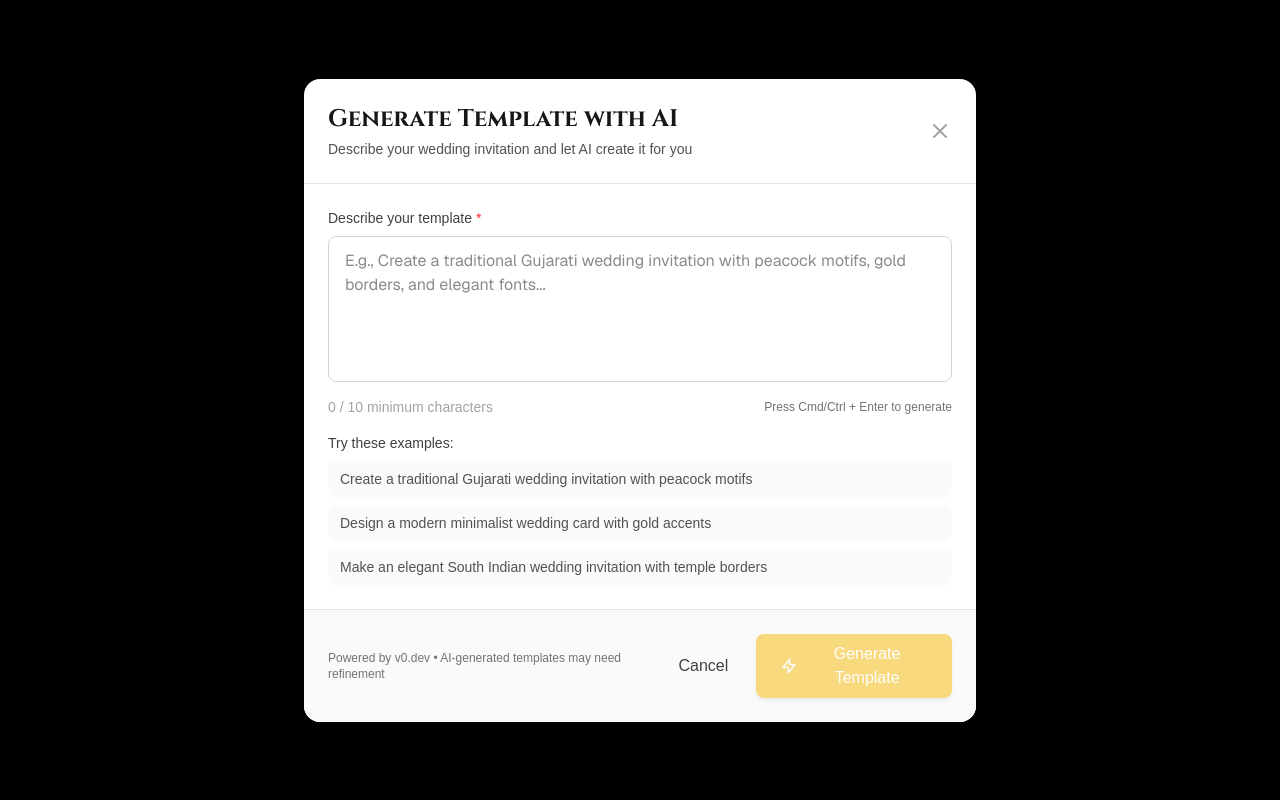
it: AI Prompt Dialog › Generation Process › shows loading state during generation
Replace the text in the text box with placeholder "Create a traditional" with "Valid prompt for testing": (640, 308) [328,236,952,382]
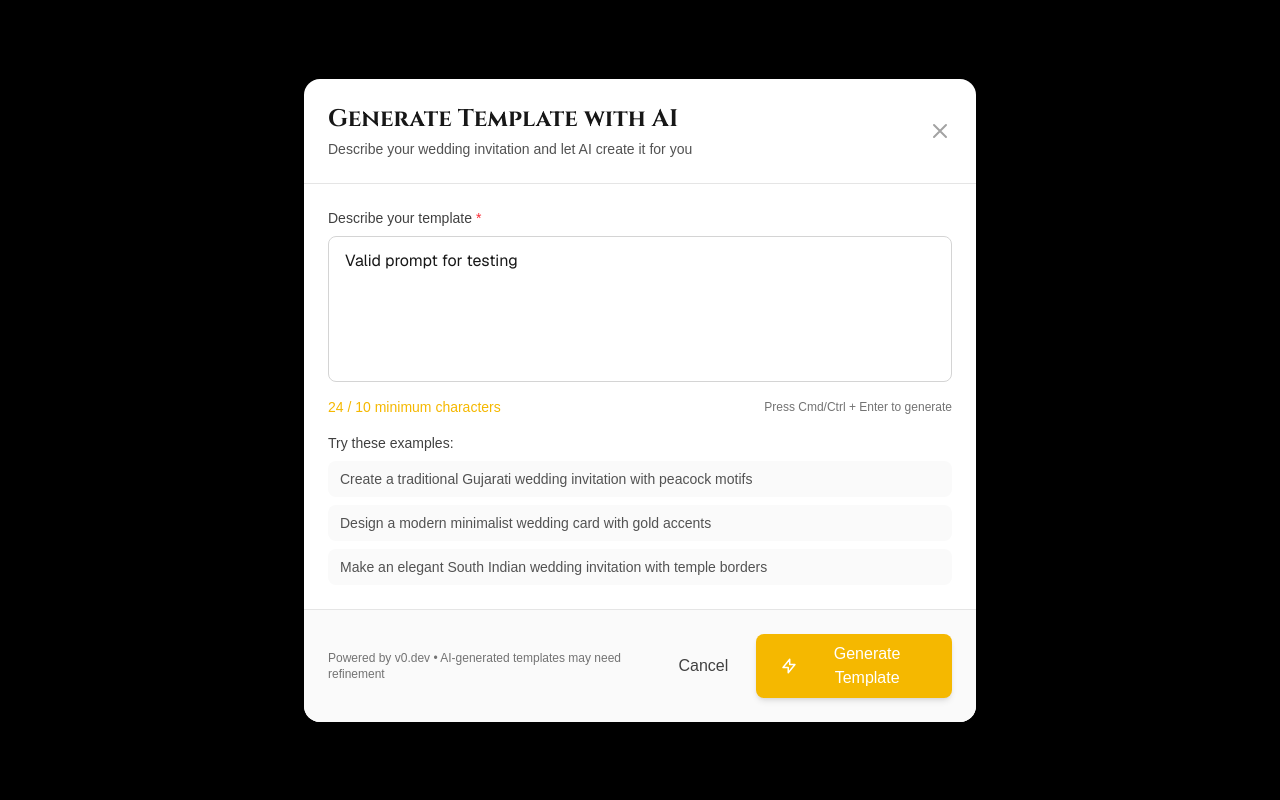
Click the button "Generate Template": (854, 666) [756,634,952,698]
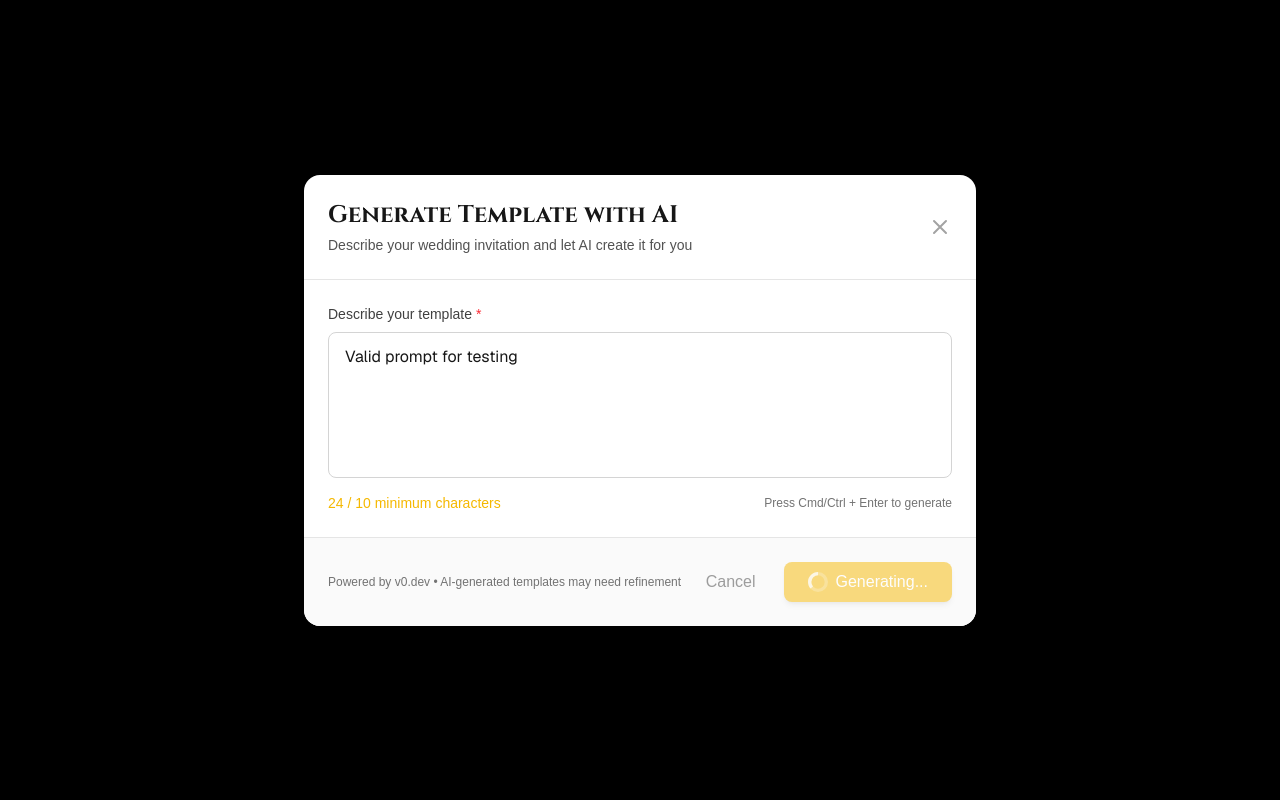
expect the button "Generating..." is disabled: met, box [784,562,952,602]
